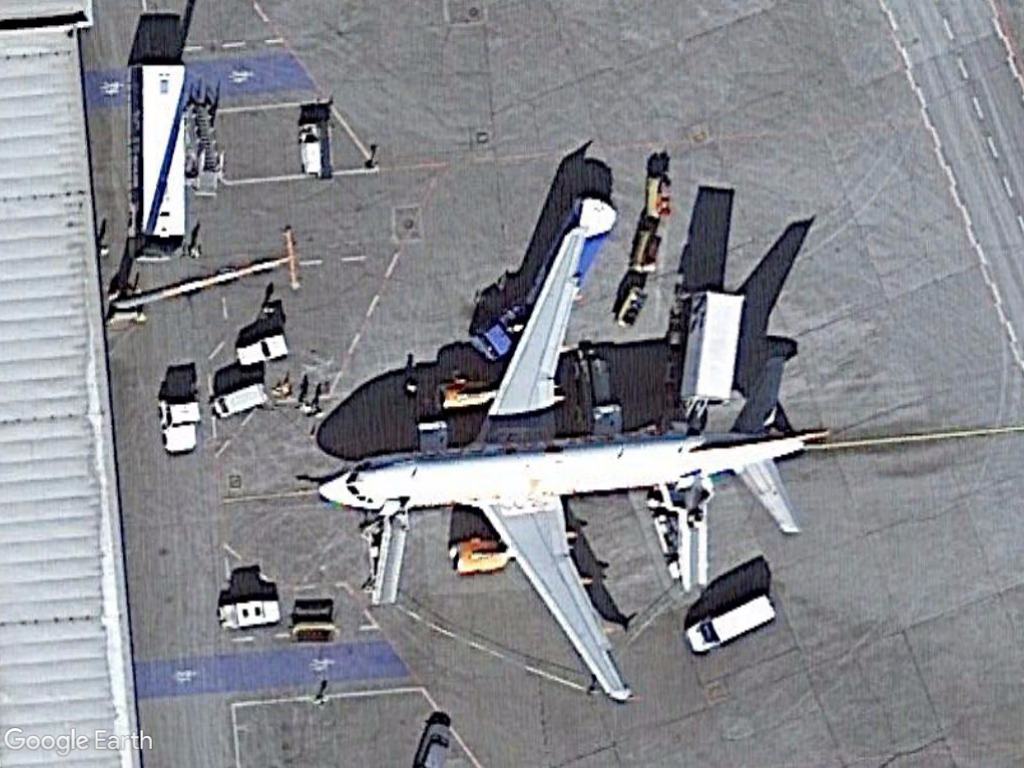airliner: (314, 219, 824, 707)
stairtruck: (659, 485, 717, 596), (360, 511, 422, 611)
van: (682, 592, 782, 662)
